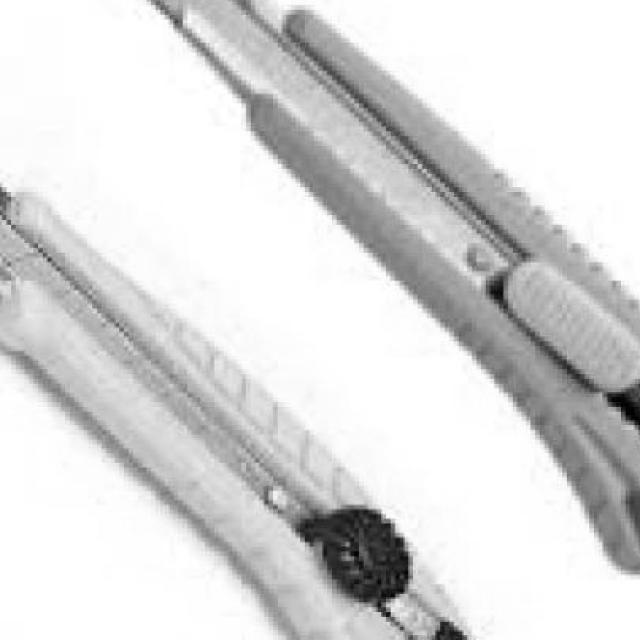estilete: (147, 0, 640, 572), (0, 186, 469, 640)
